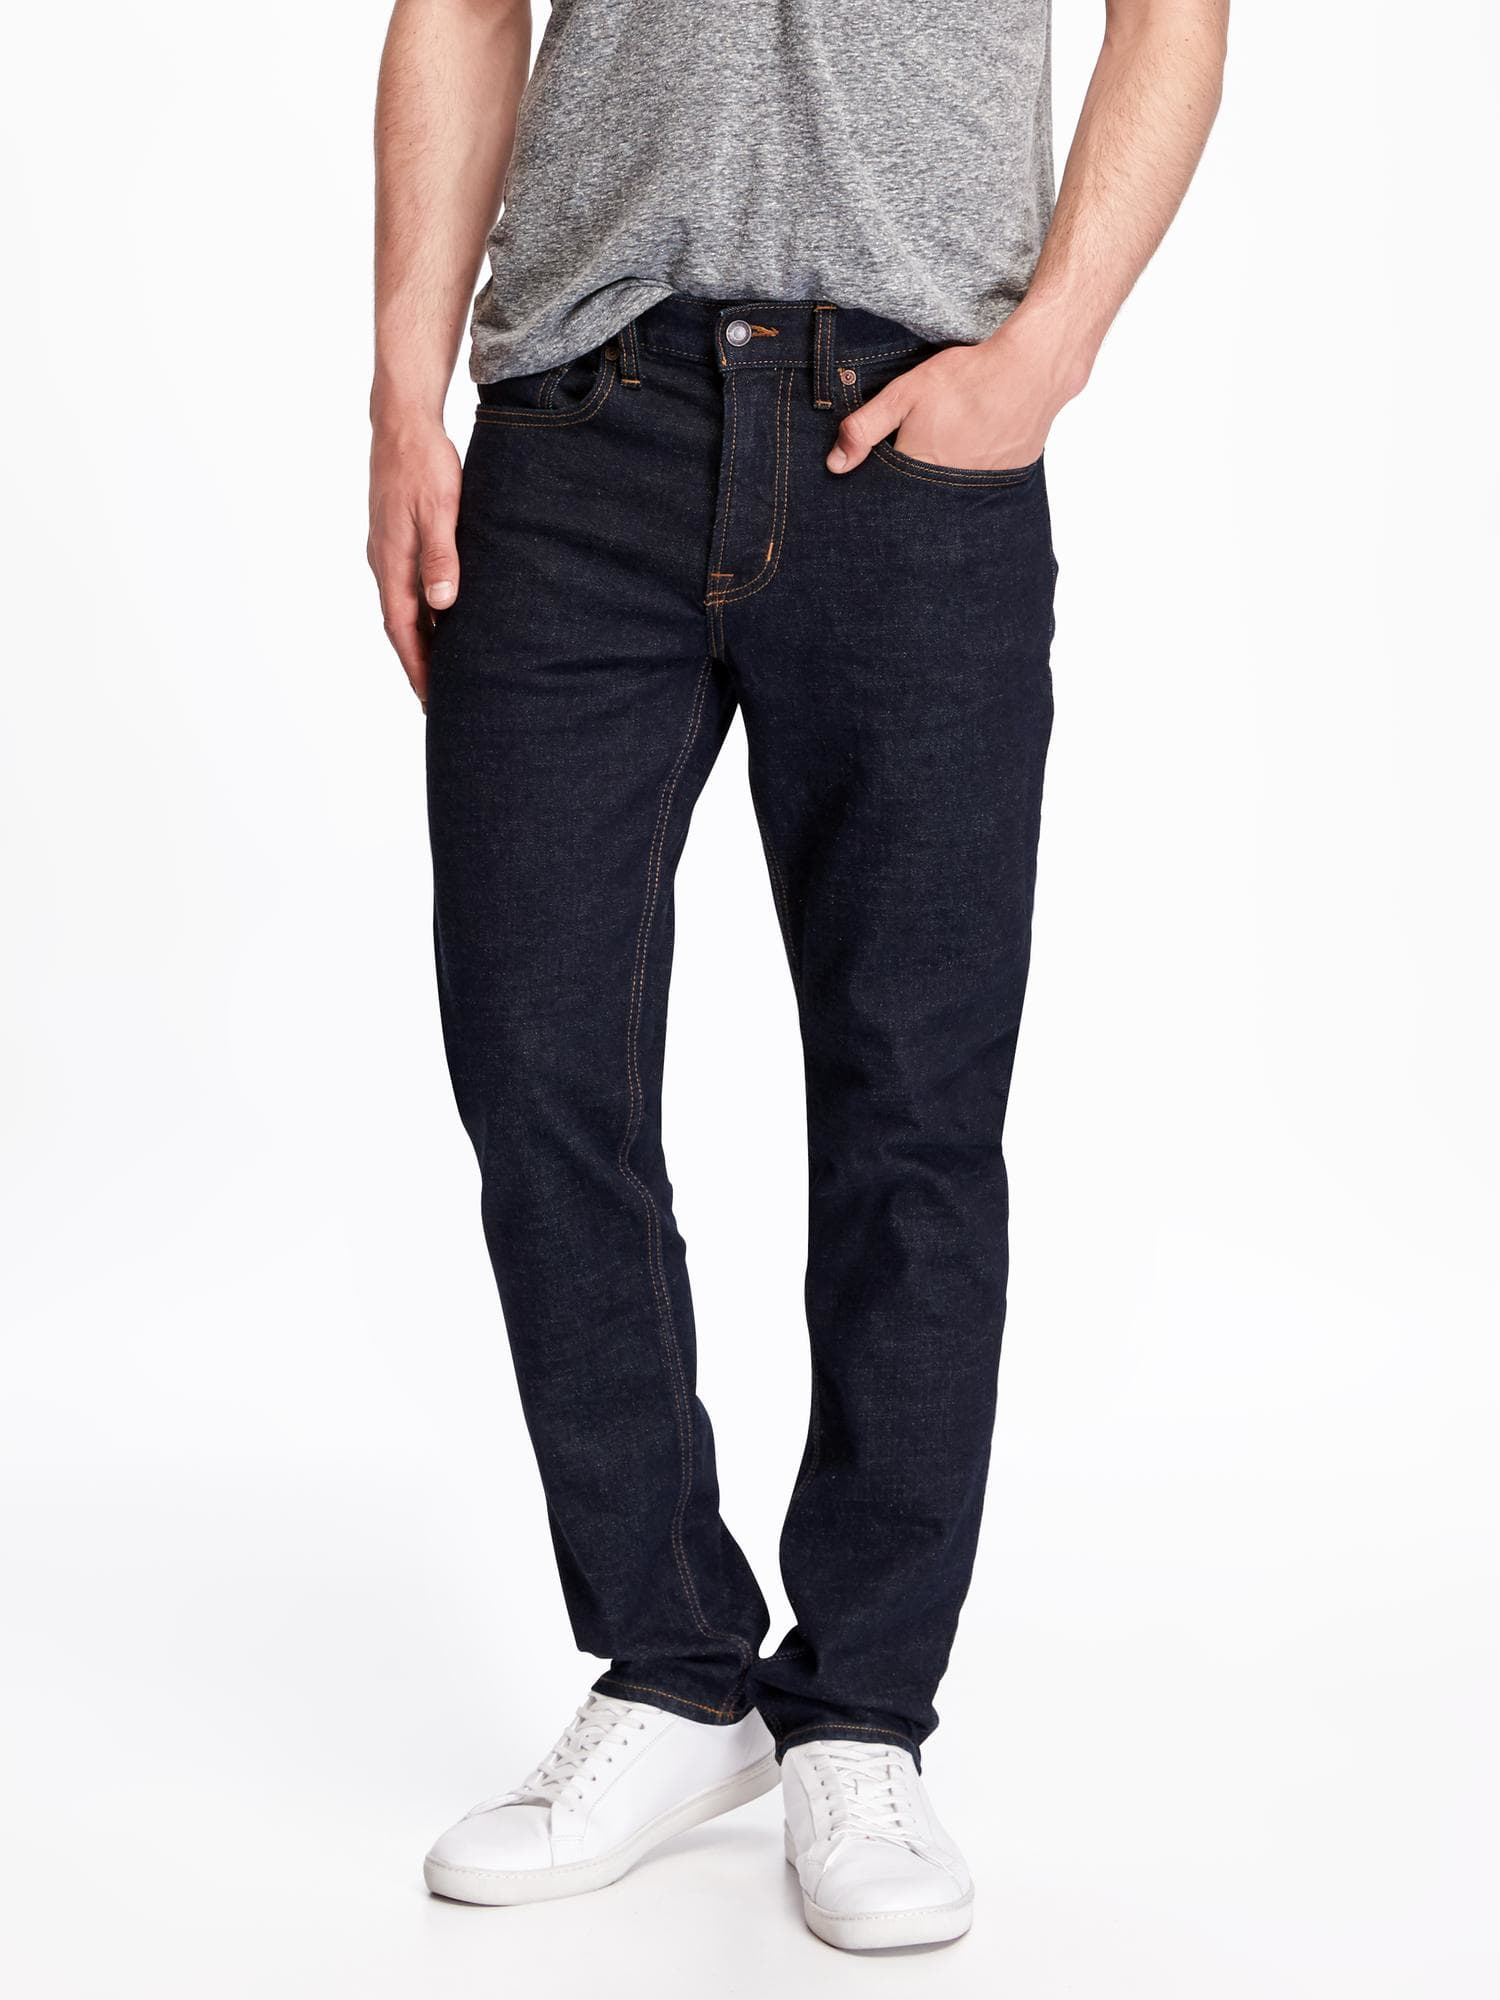jeans: (361, 276, 1171, 1798)
